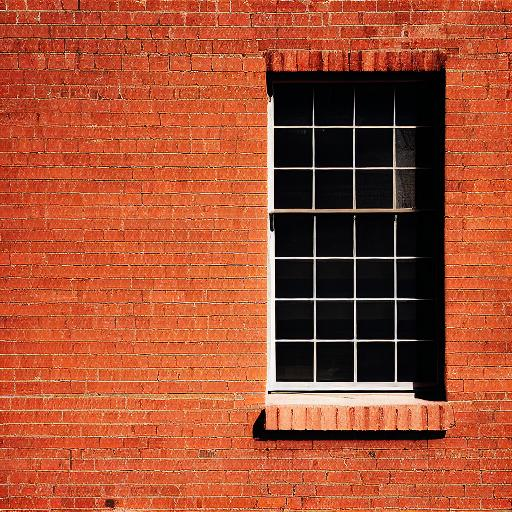Window: (260, 52, 452, 435)
